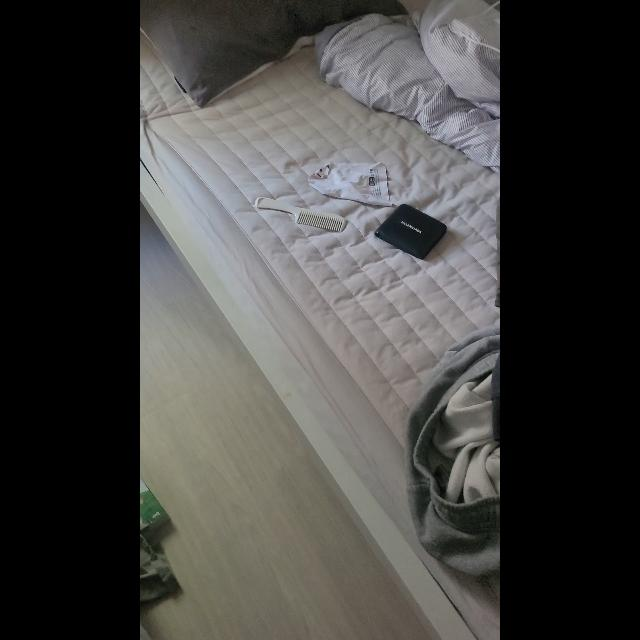COMB: (256, 196, 346, 232)
Glasses cleaning cloth: (308, 162, 392, 205)
WALLET: (374, 204, 448, 260)
